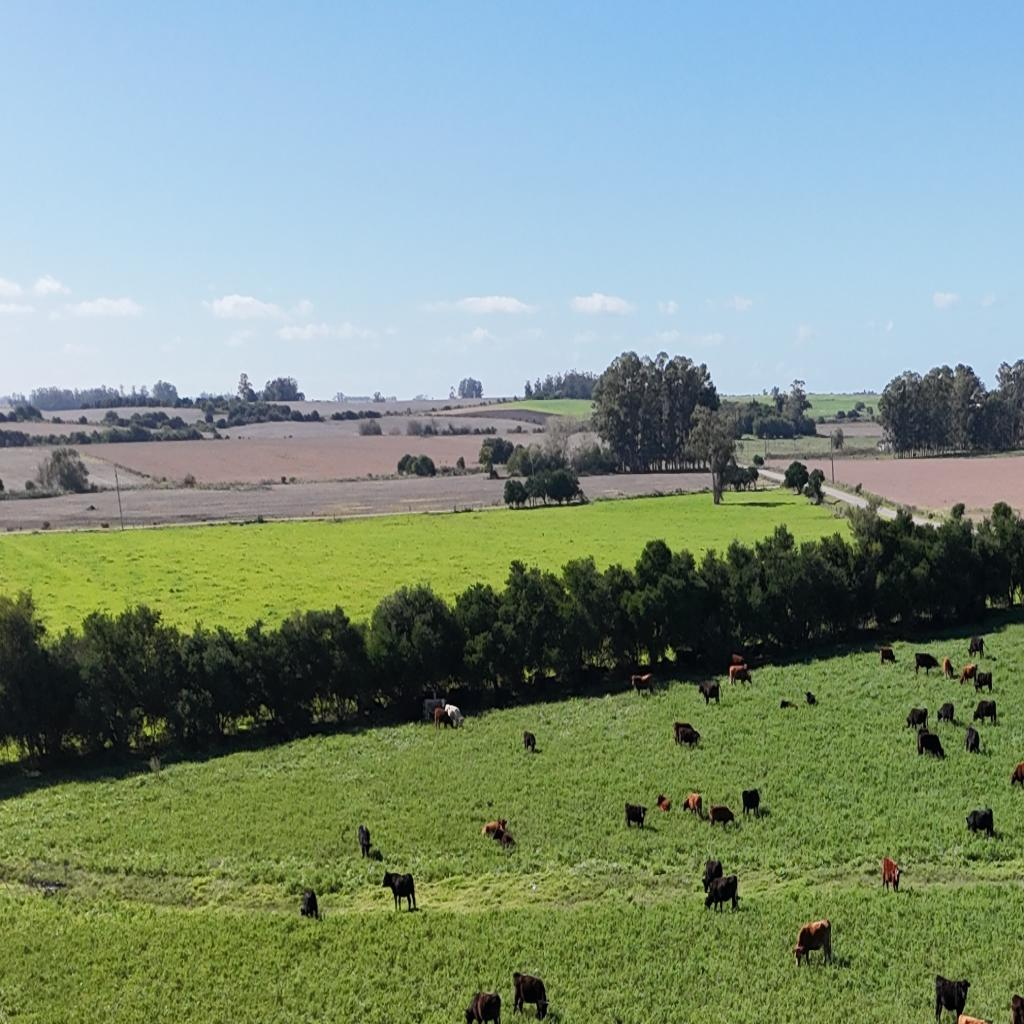cow: (794, 917, 832, 967), (512, 970, 549, 1019), (934, 975, 970, 1023), (382, 870, 417, 913), (702, 874, 739, 914), (464, 990, 501, 1024), (916, 729, 946, 760), (966, 807, 994, 840), (881, 856, 902, 894), (673, 720, 700, 748), (702, 857, 723, 891), (708, 802, 735, 828), (914, 652, 940, 678), (973, 699, 997, 727), (299, 888, 319, 920), (905, 706, 929, 732), (698, 680, 720, 708), (624, 803, 646, 831), (742, 788, 761, 819), (631, 674, 654, 698), (682, 792, 703, 817), (482, 818, 506, 839), (730, 665, 752, 687), (1008, 992, 1024, 1022), (974, 670, 993, 695), (968, 636, 987, 660), (444, 704, 463, 728), (358, 823, 370, 860), (965, 726, 980, 755), (959, 662, 977, 686), (494, 830, 516, 849), (937, 702, 955, 725), (792, 943, 808, 968), (957, 1013, 993, 1024), (434, 706, 450, 730), (463, 1001, 478, 1024), (879, 646, 896, 666), (522, 731, 536, 753), (916, 727, 927, 754), (689, 648, 706, 665), (749, 649, 765, 666), (656, 794, 671, 812), (943, 656, 954, 680), (1016, 759, 1024, 789), (672, 722, 681, 746), (731, 654, 746, 668), (780, 698, 798, 709), (804, 691, 816, 706)
